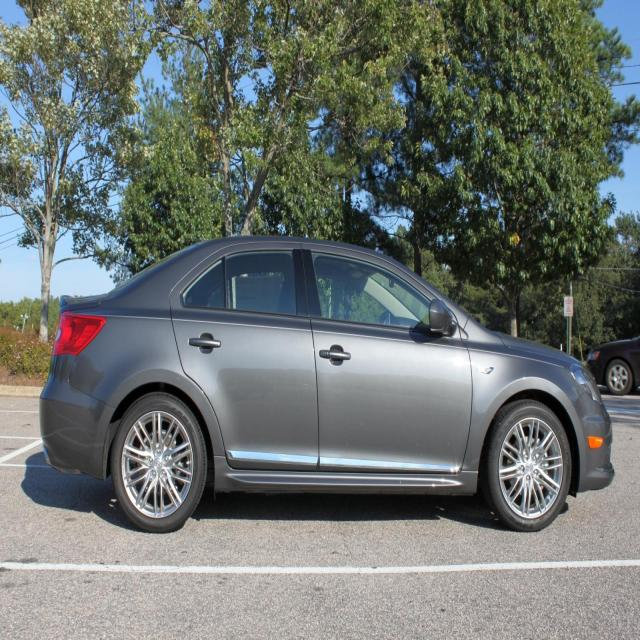Car: (26, 206, 620, 546)
